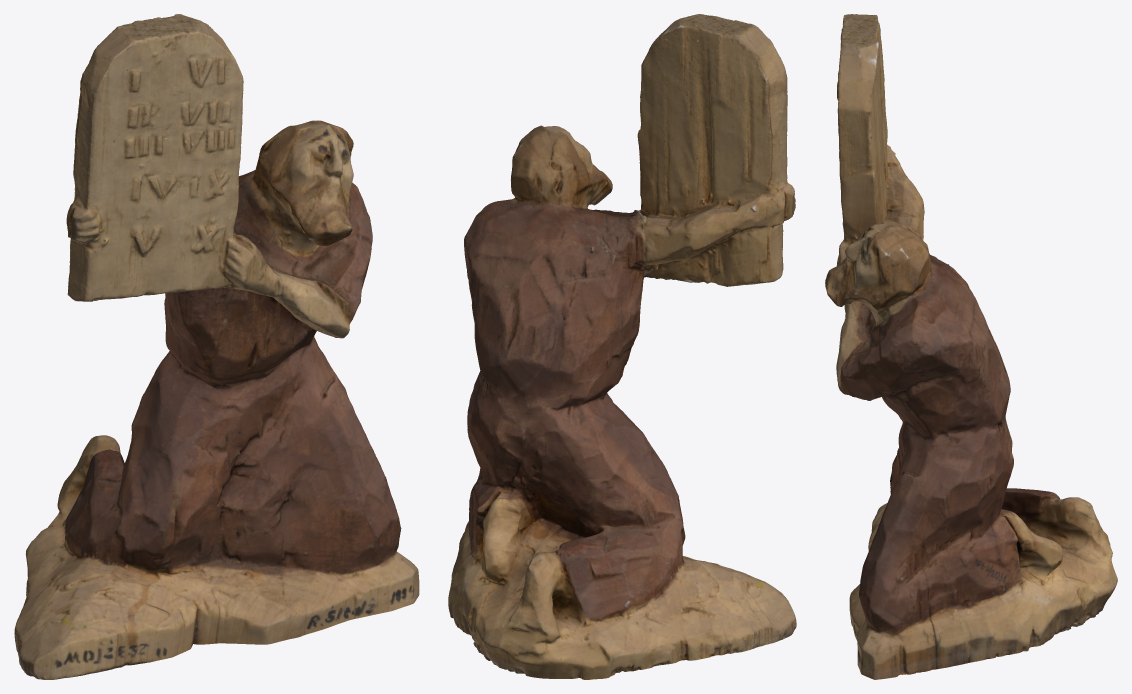
File: MPLW_E_1197_lowpoly.glb
The picture shows the model from 3 angles, left to right: view 1: azimuth 30°, elevation 25°; view 2: azimuth 150°, elevation 25°; view 3: azimuth 270°, elevation 25°; orthographic projection. The views are drawn at different scales.
Parts seen in each view (by area): view 1: MPLW_E_1197_lowpoly; view 2: MPLW_E_1197_lowpoly; view 3: MPLW_E_1197_lowpoly.
Part boxes in pixels (x1=…): MPLW_E_1197_lowpoly: x1=14, y1=14, x2=419, y2=679; MPLW_E_1197_lowpoly: x1=448, y1=14, x2=796, y2=679; MPLW_E_1197_lowpoly: x1=825, y1=14, x2=1117, y2=679.
Size of the model in its own units: 0.1739 by 0.2825 by 0.1385.
Materials: 1 (1 with a texture image).
